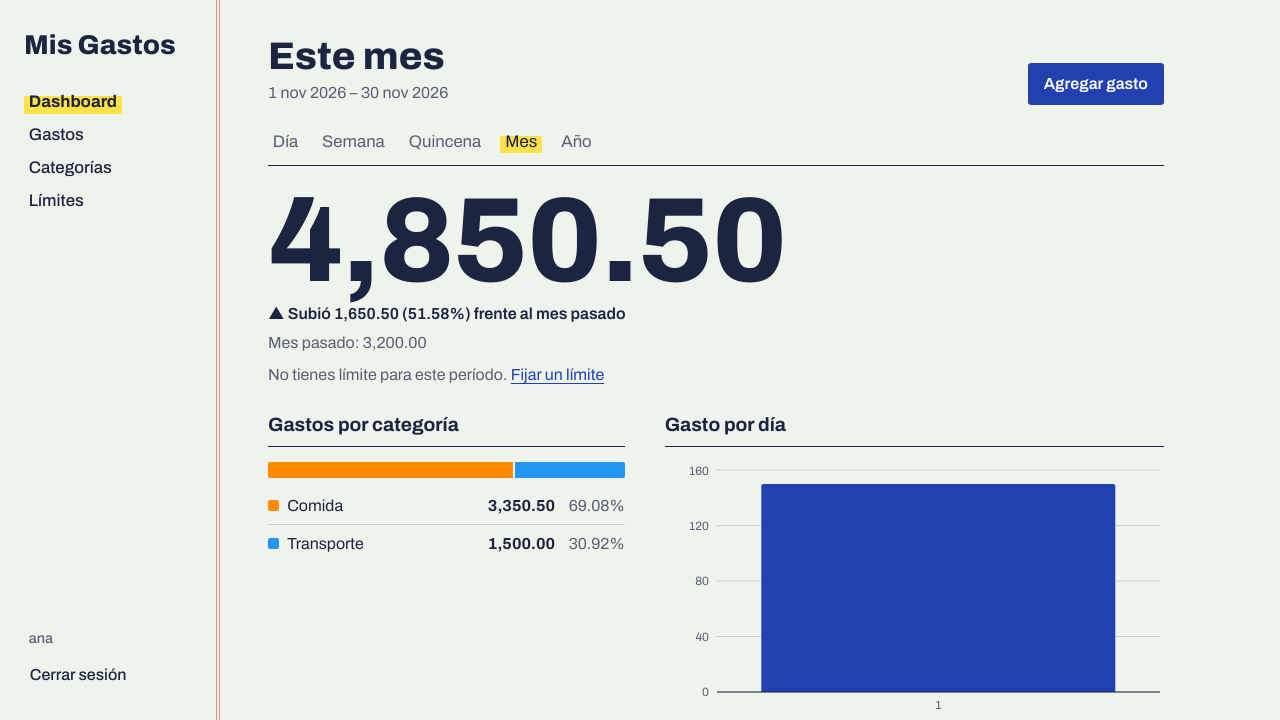
Test: DashboardPage: tabs and periods › the Quincena tab requests FORTNIGHT and is titled "Esta quincena"
The width and height of the screenshot is (1280, 720).
Expected: the text "4,850.50" is shown, [268, 176, 786, 306]
Click the tab "Quincena" at point(445, 142), box [404, 128, 486, 155]
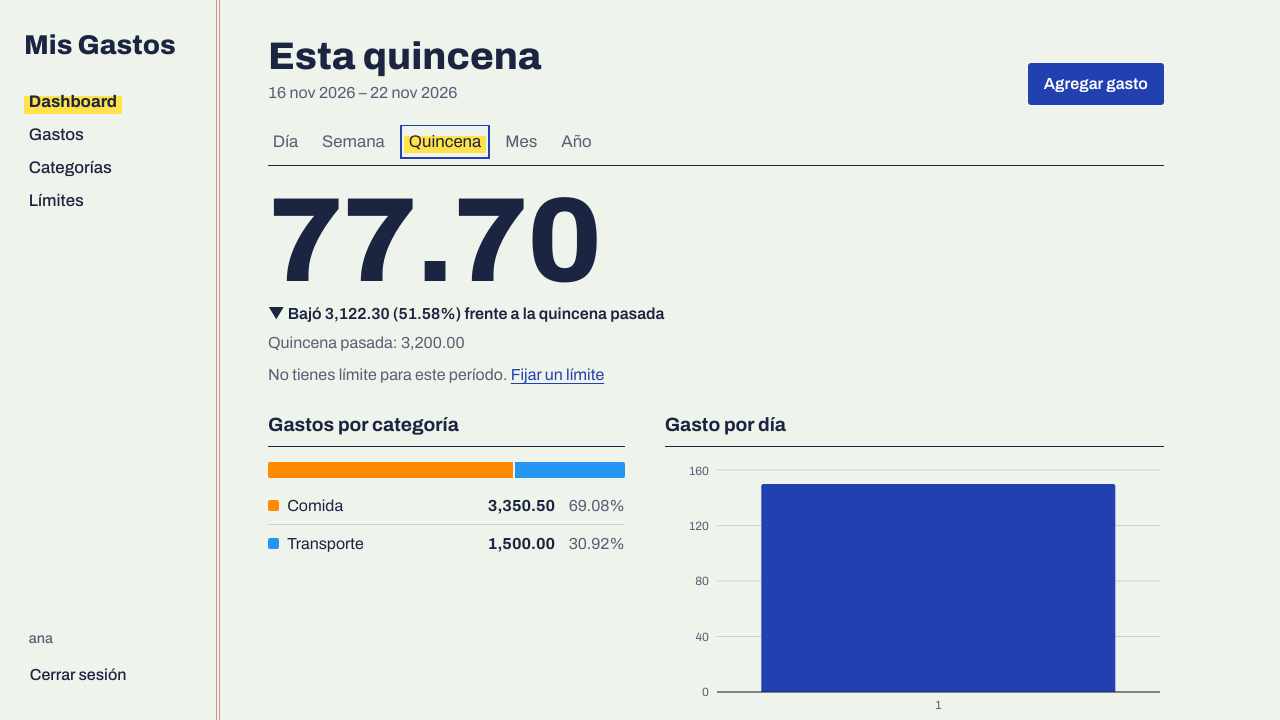
Now the heading "Esta quincena" is shown, box [268, 36, 542, 76]
Now the text with test id "total-spent" reads "77.70", box [268, 176, 601, 306]
Now the text "16 nov 2026 – 22 nov 2026" is shown, box [268, 84, 457, 101]
